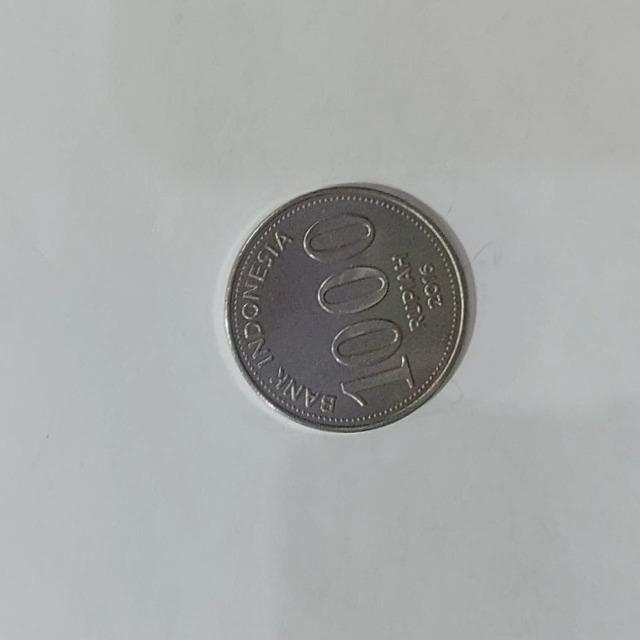Rp100: (223, 180, 473, 433)
